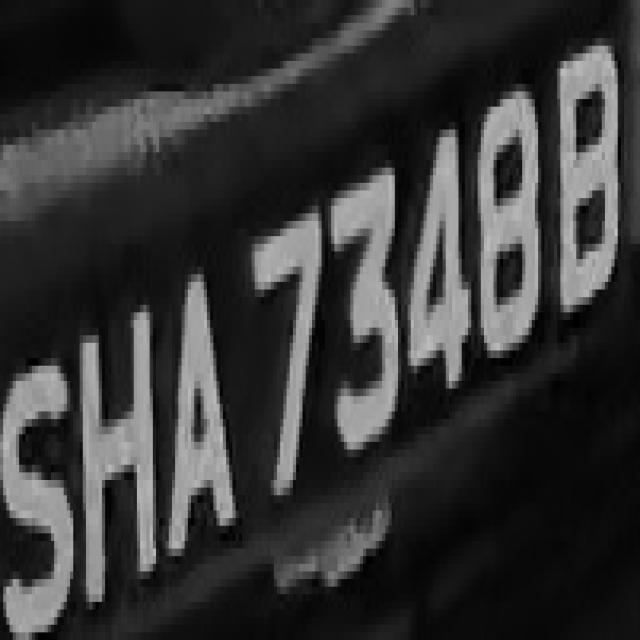3: (328, 152, 401, 465)
4: (394, 99, 478, 419)
7: (245, 198, 331, 518)
8: (471, 61, 548, 366)
A: (153, 244, 242, 579)
B: (551, 23, 621, 312)
H: (70, 297, 162, 625)
S: (3, 327, 76, 640)
